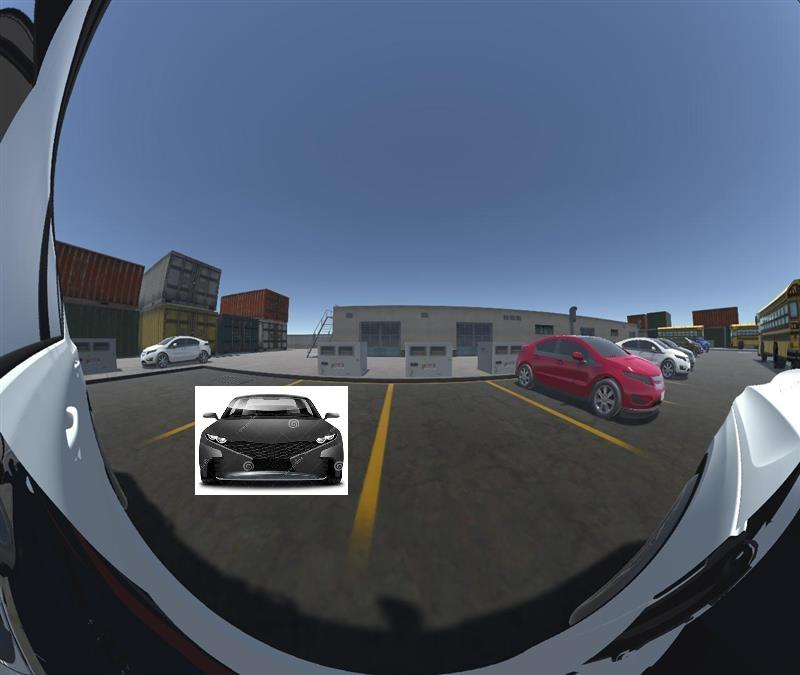Car: (195, 387, 349, 495)
